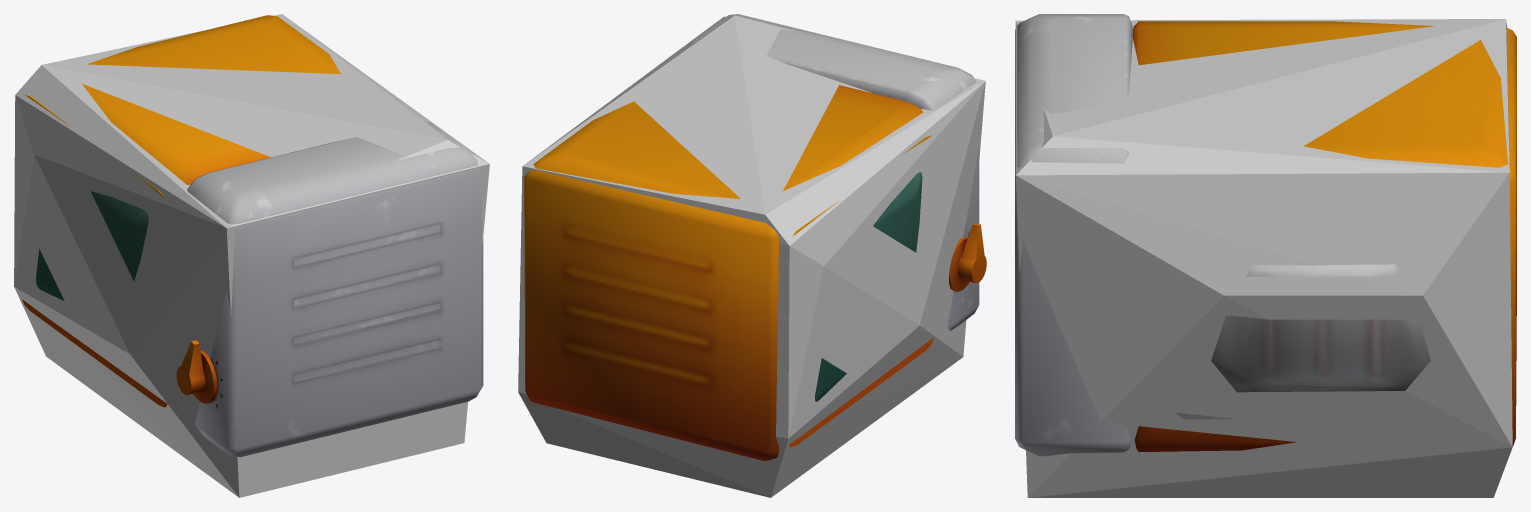
The model's file is SM_Microwave01.fbx.
3 views of the same model, side by side, from view 1: azimuth 30°, elevation 25°; view 2: azimuth 150°, elevation 25°; view 3: azimuth 270°, elevation 25° (orthographic). The views are drawn at different scales.
Parts seen in each view (by area): view 1: SM_Microwave01, SM_Microwave01_ConvexHulls; view 2: SM_Microwave01, SM_Microwave01_ConvexHulls; view 3: SM_Microwave01_ConvexHulls, SM_Microwave01.
Boxes of the visible parts, x1,y1,x2,y2 form: SM_Microwave01: (22, 15, 483, 457); SM_Microwave01_ConvexHulls: (14, 14, 489, 497); SM_Microwave01: (524, 14, 986, 461); SM_Microwave01_ConvexHulls: (518, 15, 985, 497); SM_Microwave01_ConvexHulls: (1015, 19, 1512, 497); SM_Microwave01: (1015, 14, 1516, 456).
Size of the model in its own units: 43.28 by 50.86 by 40.02.
2 materials, 1 textured.
